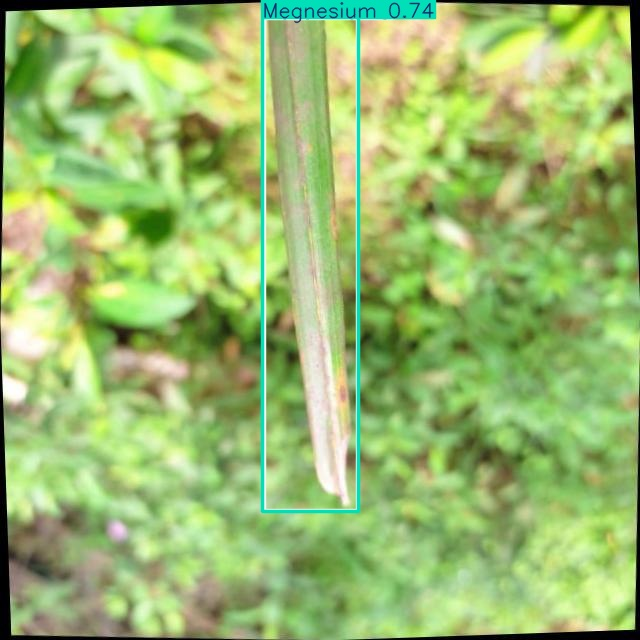Kalium: (264, 2, 358, 511)
Megnesium: (263, 0, 358, 511)
